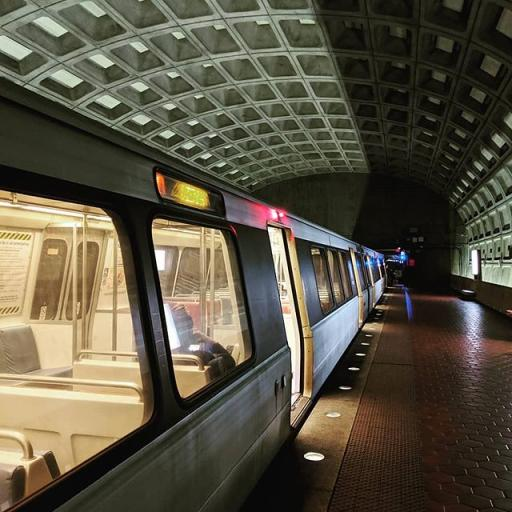platform_edge: (239, 302, 426, 510)
